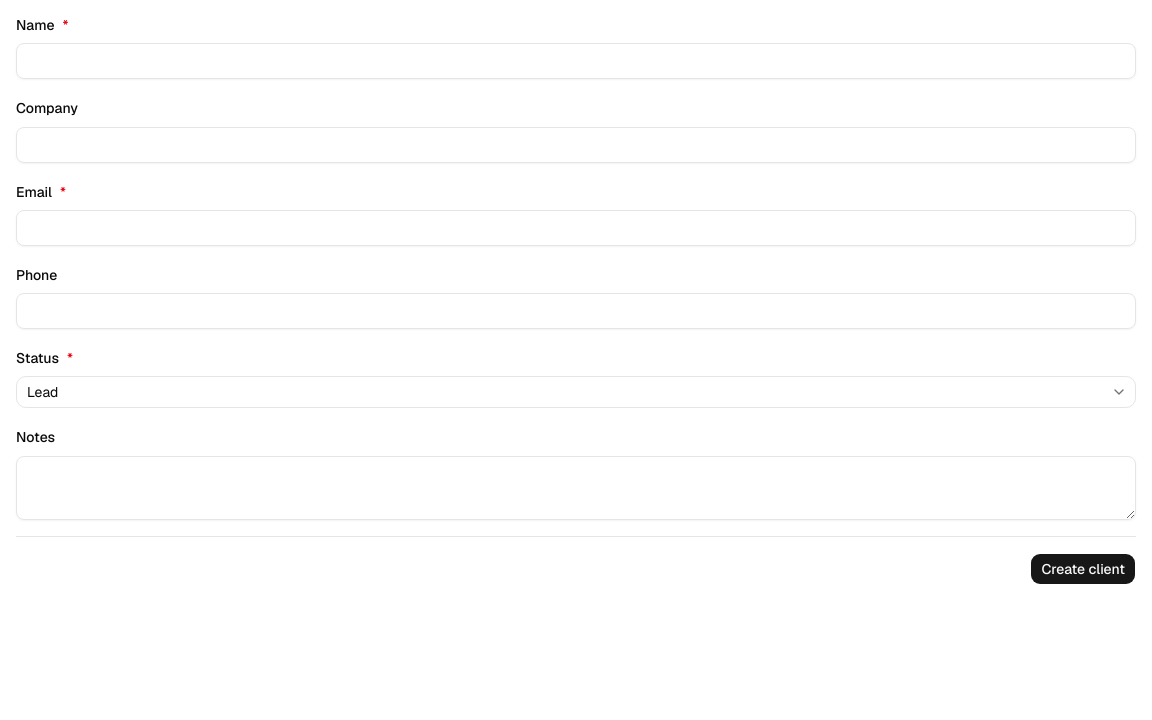
Test: ClientForm (create mode) › maps 422 backend errors onto fields
Type "Duplicate" into the field labelled "Name *". click: (576, 61)
box: [16,43,1136,79]
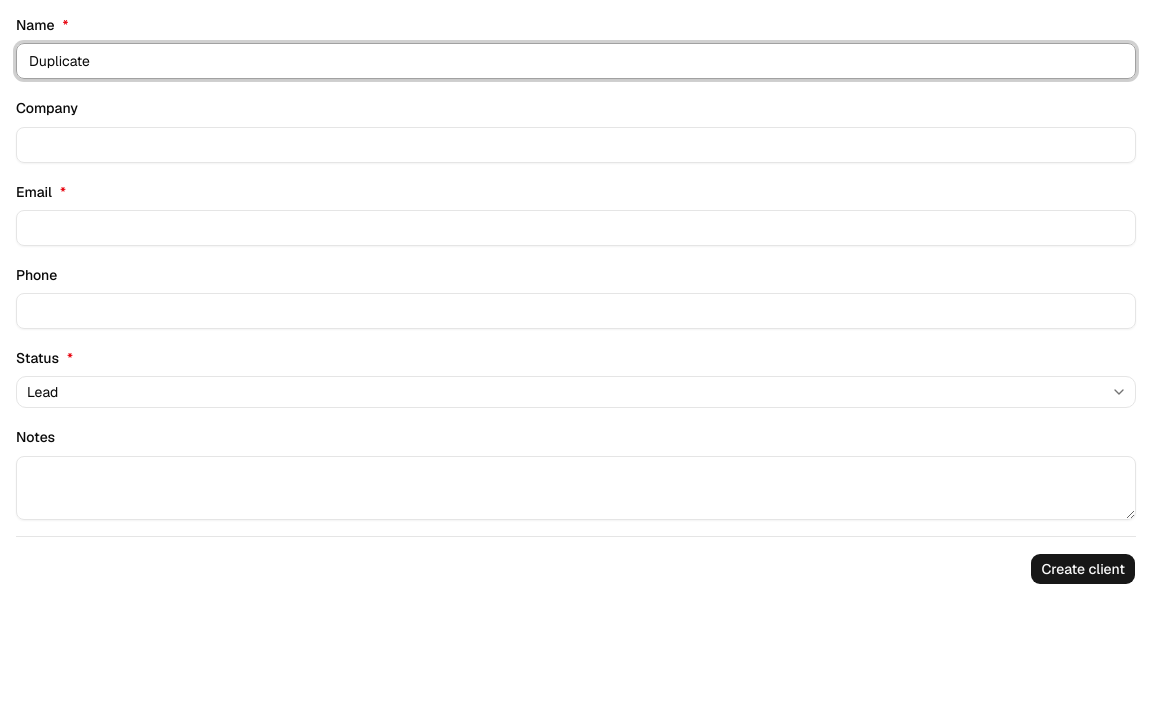
Type "taken@example.com" into the field labelled "Email *". click: (576, 228)
box: [16,210,1136,246]
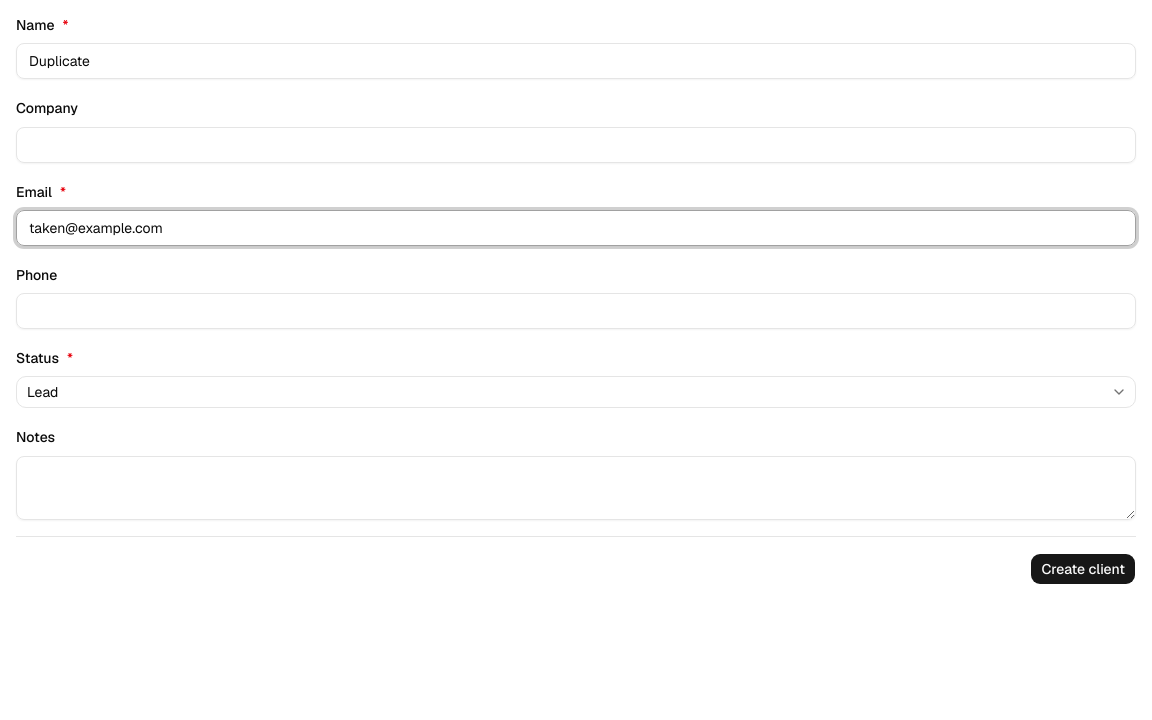
Click the button "Create client". click: (1083, 568)
box: [1030,552,1136,584]
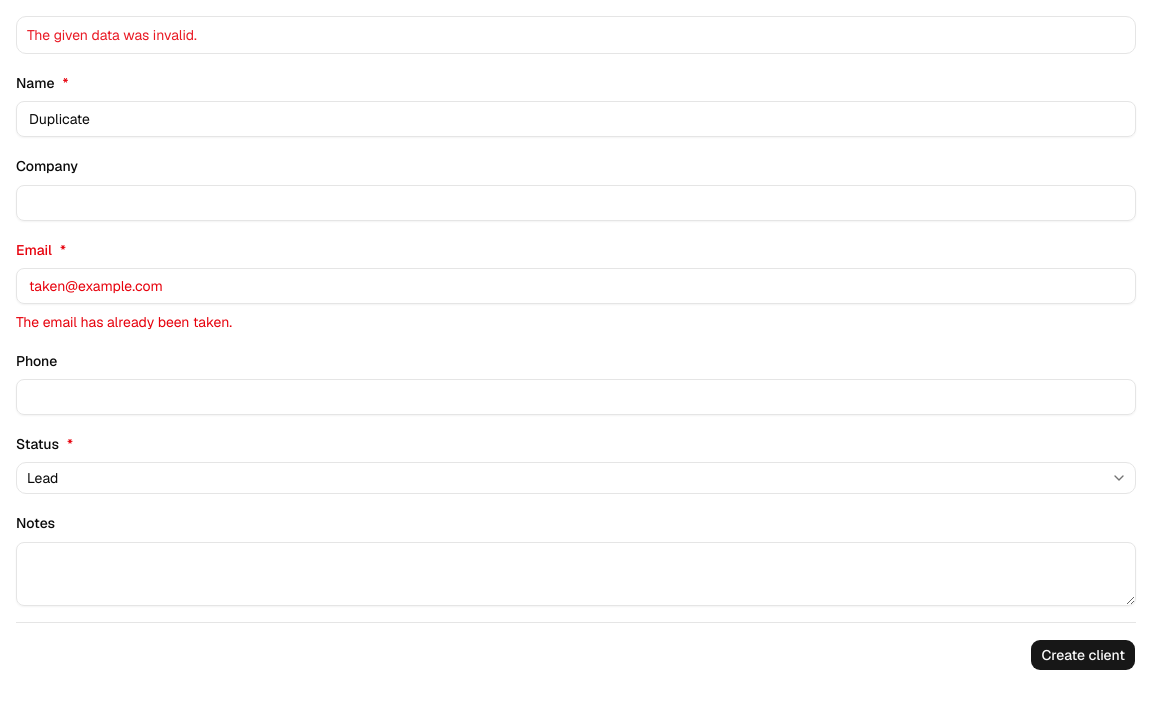
Expected: the text "The email has already been taken." is shown, [16,313,232,331]
